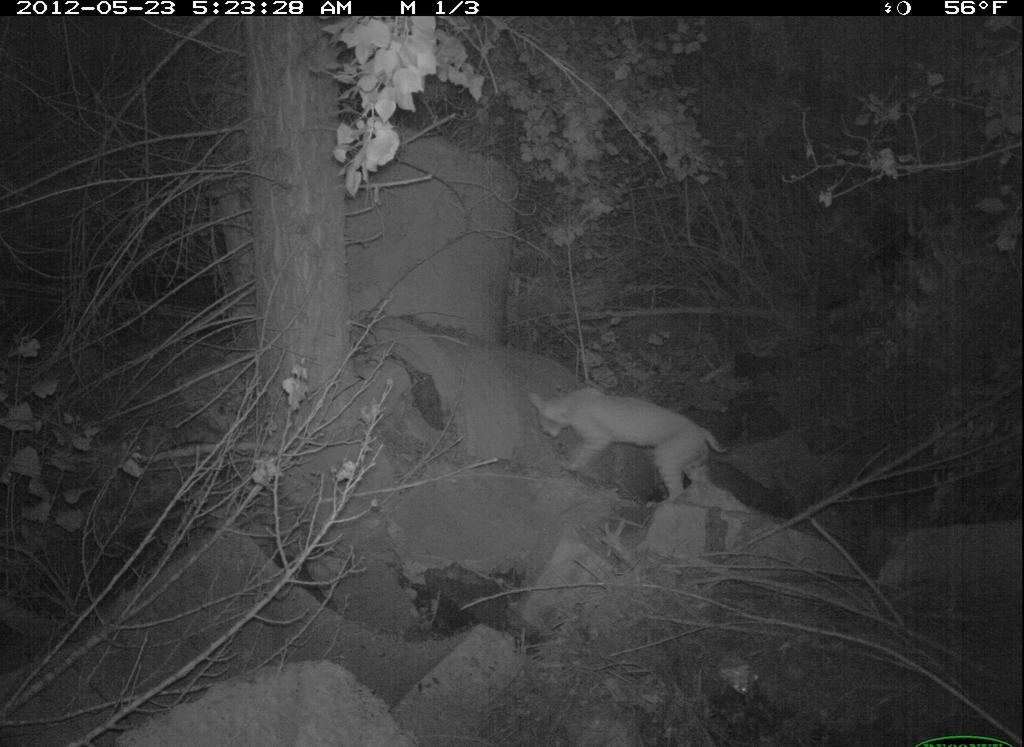bobcat: (523, 379, 738, 513)
